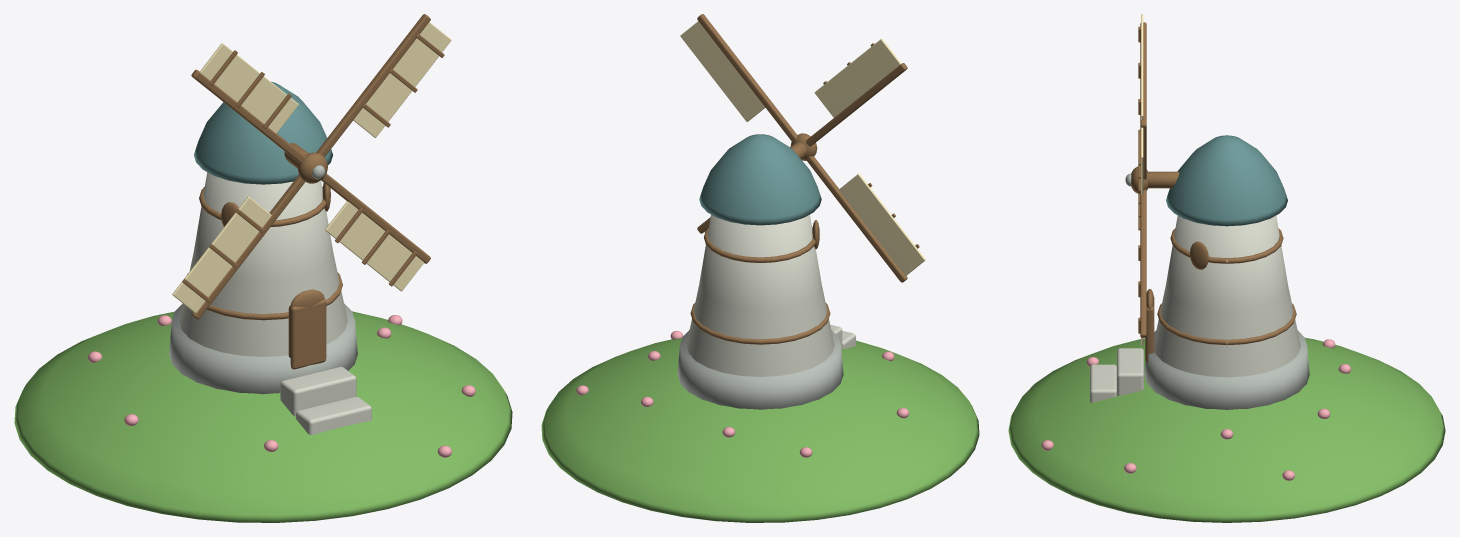
The model's file is decor-hill-windmill.glb.
3 views of the same model, side by side, from view 1: azimuth 30°, elevation 25°; view 2: azimuth 150°, elevation 25°; view 3: azimuth 270°, elevation 25° (orthographic). The views are drawn at different scales.
Parts seen in each view (by area): view 1: hill-windmill-leaf.004, hill-windmill-lightstone.004, hill-windmill-cream.004, hill-windmill-wood.004, hill-windmill-tile.004, hill-windmill-stone.004, hill-windmill-pink.004; view 2: hill-windmill-leaf.004, hill-windmill-lightstone.004, hill-windmill-cream.004, hill-windmill-tile.004, hill-windmill-wood.004, hill-windmill-stone.004, hill-windmill-pink.004; view 3: hill-windmill-leaf.004, hill-windmill-lightstone.004, hill-windmill-tile.004, hill-windmill-stone.004, hill-windmill-wood.004, hill-windmill-pink.004, hill-windmill-cream.004.
Part boxes in pixels (<box>): hill-windmill-leaf.004: <box>14,311,512,522</box>; hill-windmill-lightstone.004: <box>179,172,371,435</box>; hill-windmill-cream.004: <box>172,22,451,313</box>; hill-windmill-wood.004: <box>182,14,444,369</box>; hill-windmill-tile.004: <box>194,81,332,184</box>; hill-windmill-stone.004: <box>169,165,357,394</box>; hill-windmill-pink.004: <box>88,315,475,457</box>; hill-windmill-leaf.004: <box>541,338,979,522</box>; hill-windmill-lightstone.004: <box>686,214,855,376</box>; hill-windmill-cream.004: <box>680,21,925,275</box>; hill-windmill-tile.004: <box>699,134,821,225</box>; hill-windmill-wood.004: <box>690,14,919,344</box>; hill-windmill-stone.004: <box>677,330,843,409</box>; hill-windmill-pink.004: <box>576,330,909,457</box>; hill-windmill-leaf.004: <box>1008,337,1445,522</box>; hill-windmill-lightstone.004: <box>1090,215,1300,402</box>; hill-windmill-tile.004: <box>1166,135,1287,226</box>; hill-windmill-stone.004: <box>1125,173,1309,409</box>; hill-windmill-wood.004: <box>1131,22,1296,362</box>; hill-windmill-pink.004: <box>1041,339,1351,480</box>; hill-windmill-cream.004: <box>1141,14,1143,345</box>.
Size of the model in its own units: 6.8 by 6.49 by 6.8.
